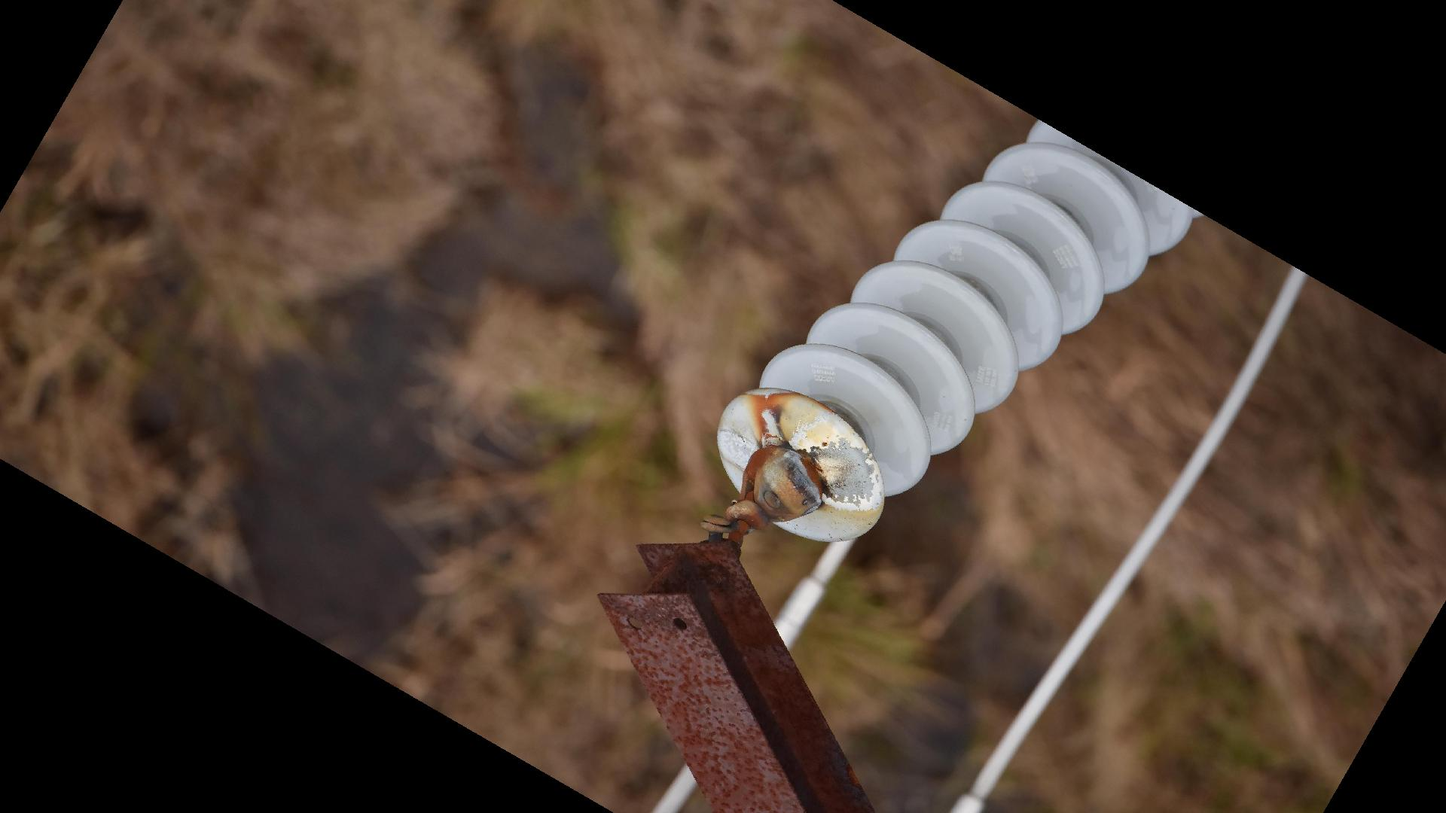insulator: (708, 113, 1210, 550)
insulator_flashover: (804, 437, 883, 509), (712, 428, 760, 471)
